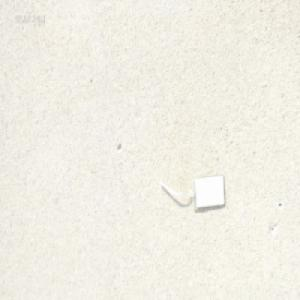LuggageTag: (155, 170, 226, 211)
